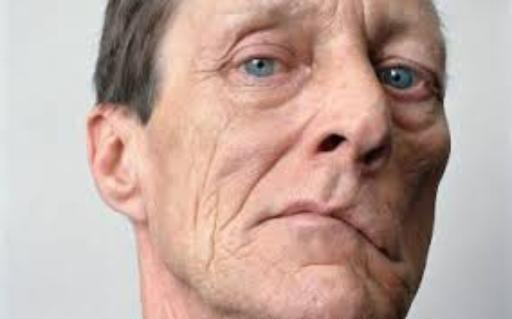left_eye: (374, 67, 429, 91)
left_lip_corner: (373, 241, 409, 268)
right_eye: (230, 57, 295, 79)
right_lip_corner: (250, 205, 290, 231)
